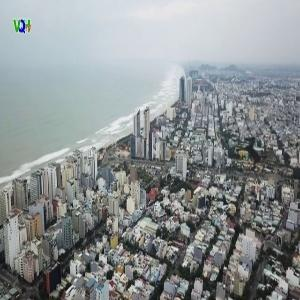drone: (217, 122, 284, 189)
